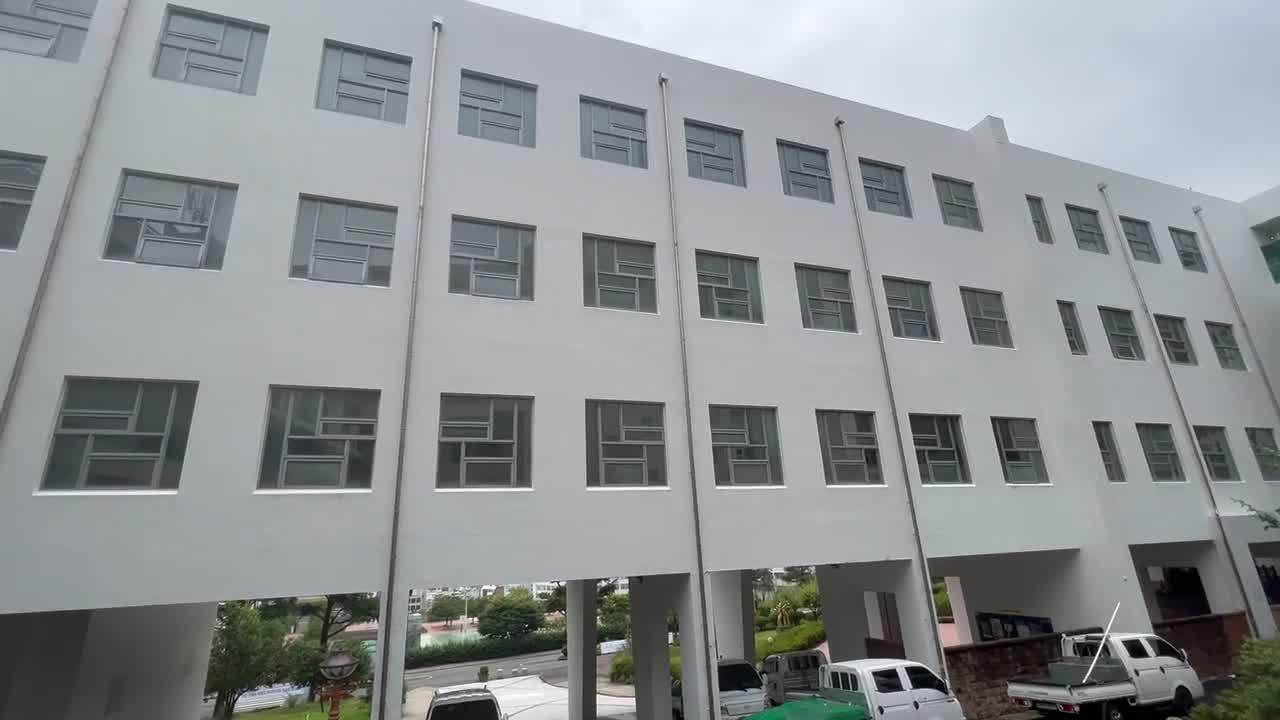building: (30, 22, 1263, 529)
